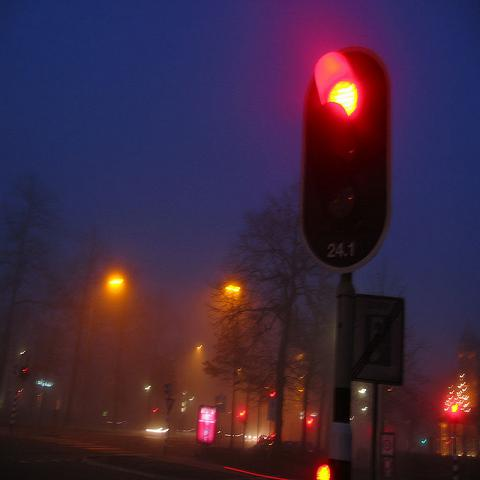car: (258, 434, 270, 444)
